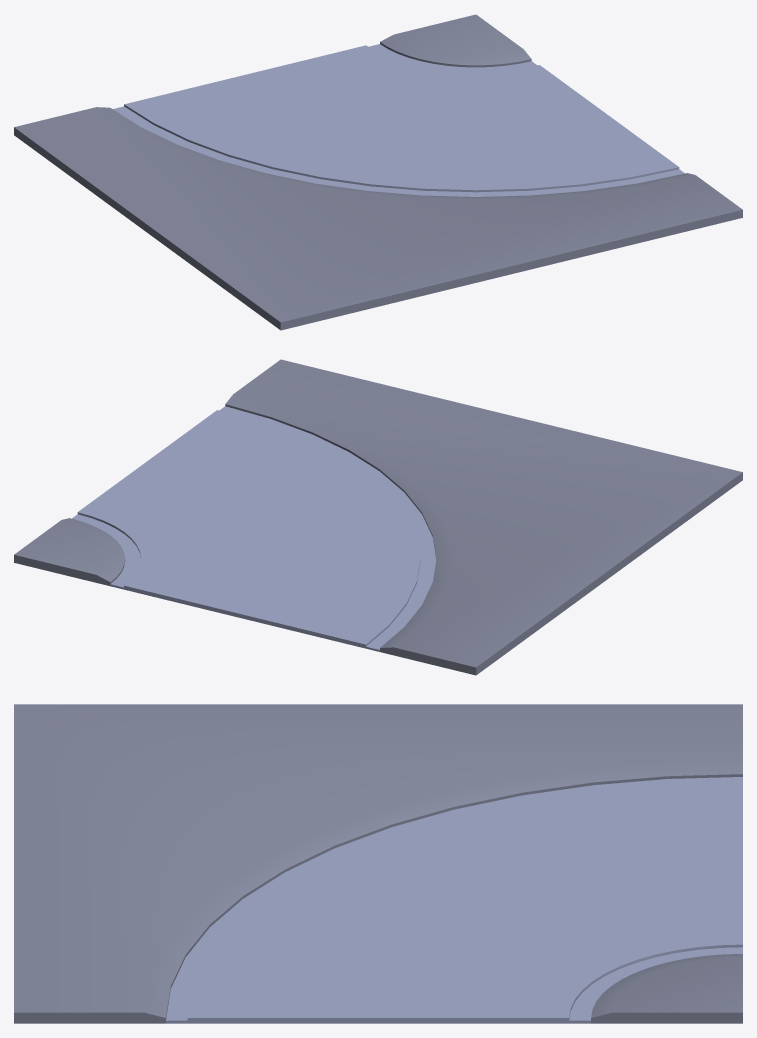
File: road_bend.glb
The picture shows the model from 3 angles, top to bottom: view 1: azimuth 30°, elevation 25°; view 2: azimuth 150°, elevation 25°; view 3: azimuth 270°, elevation 25°; orthographic projection. The views are drawn at different scales.
Parts seen in each view (by area): view 1: road-bend; view 2: road-bend; view 3: road-bend.
Boxes of the visible parts, x1=… form: road-bend: x1=14, y1=14, x2=742, y2=330; road-bend: x1=14, y1=359, x2=742, y2=675; road-bend: x1=14, y1=704, x2=742, y2=1023.
Size of the model in its own units: 3 by 0.05 by 3.
Materials: 1 (1 with a texture image).
